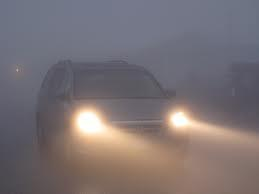car: (35, 56, 193, 169)
